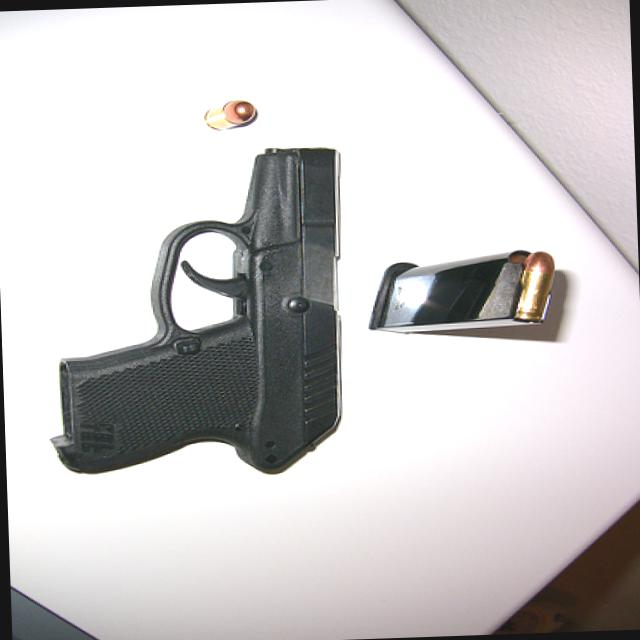handgun: (42, 146, 353, 480)
